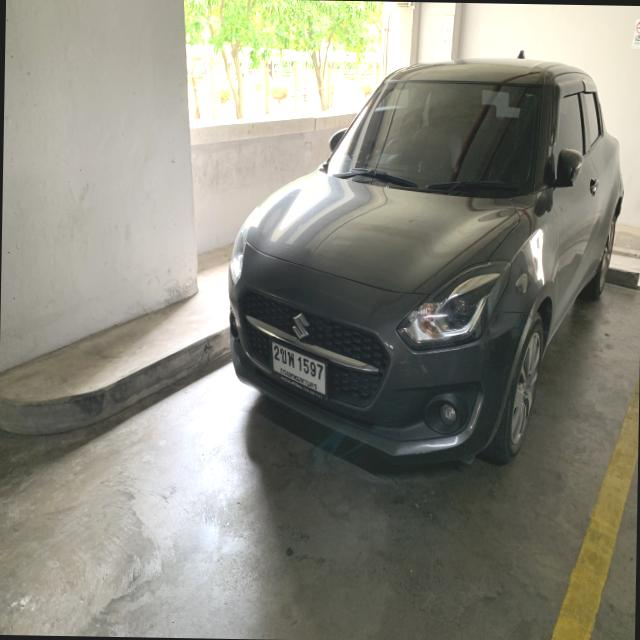license_plate: (266, 334, 331, 402)
